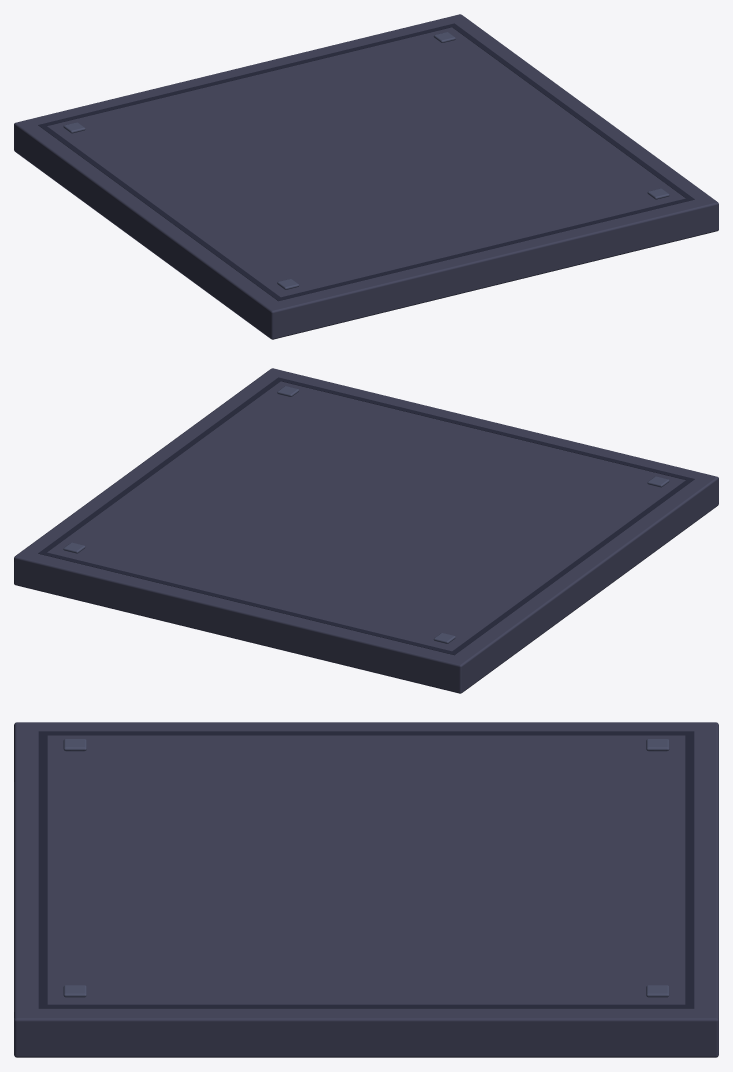
File: floor.plate.WESN.glb
3 views of the same model, one above another, from view 1: azimuth 30°, elevation 25°; view 2: azimuth 150°, elevation 25°; view 3: azimuth 270°, elevation 25° (orthographic). The views are drawn at different scales.
Visible parts, largest first — view 1: floor.plate.WESN; view 2: floor.plate.WESN; view 3: floor.plate.WESN.
Boxes of the visible parts, left/top/right/bottom form: floor.plate.WESN: left=14, top=14, right=718, bottom=339; floor.plate.WESN: left=14, top=368, right=718, bottom=693; floor.plate.WESN: left=14, top=722, right=718, bottom=1057.
Size of the model in its own units: 0.968 by 0.066 by 0.968.
